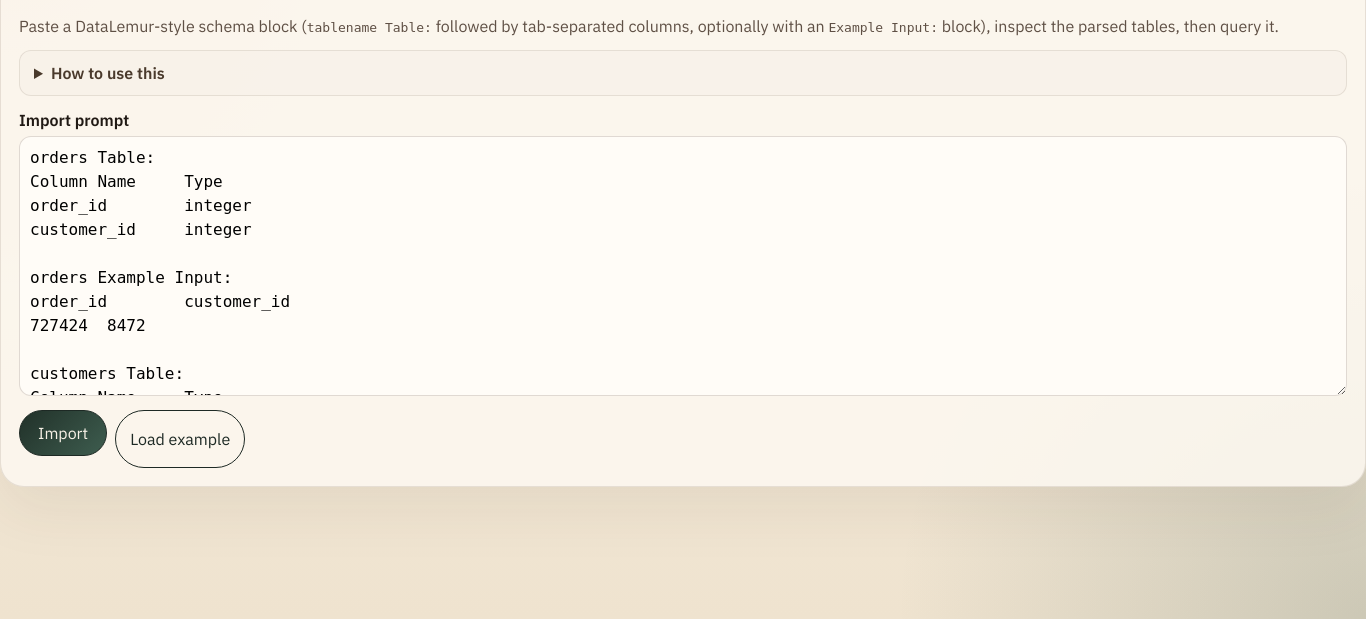
Test: SqlPlaygroundApp › surfaces quiet join hints in Setup for obviously joinable tables
Step 1. Click the button "Import" → (63, 432), box [19, 410, 107, 456]
(page scrolled)
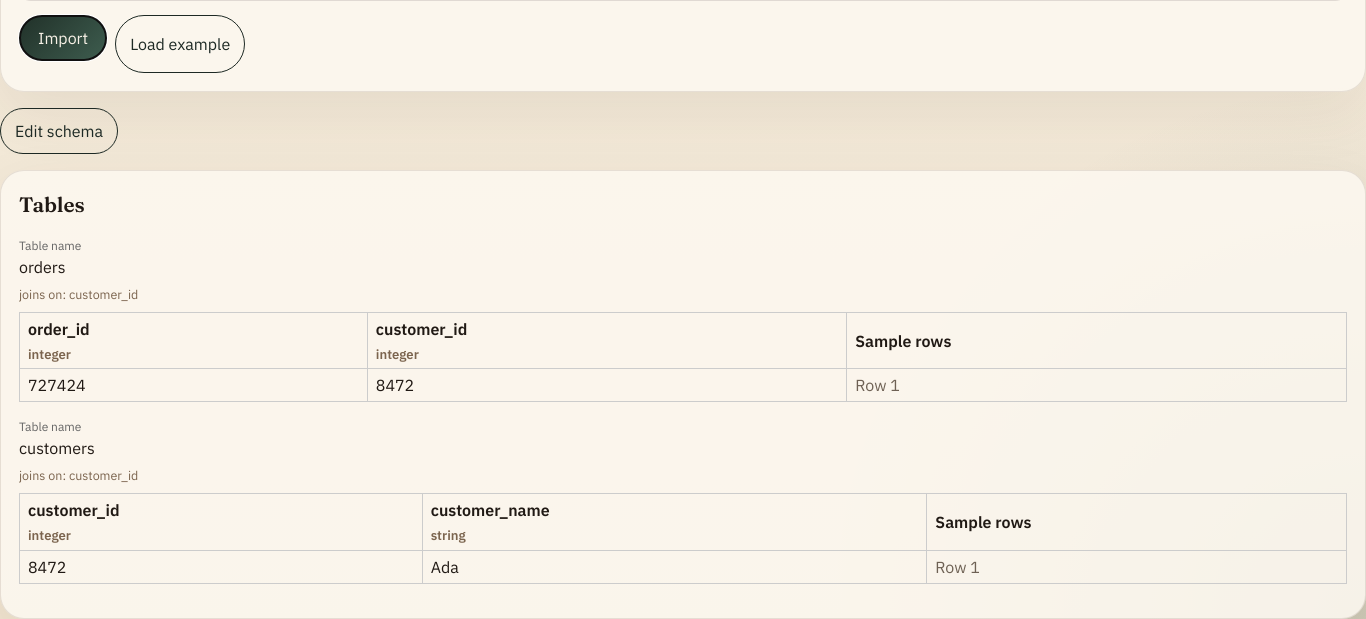
Check: the element "Tables" is shown
Check: the text "joins on: customer_id" is shown 2 times, box [19, 286, 138, 302]; [19, 467, 138, 483]
